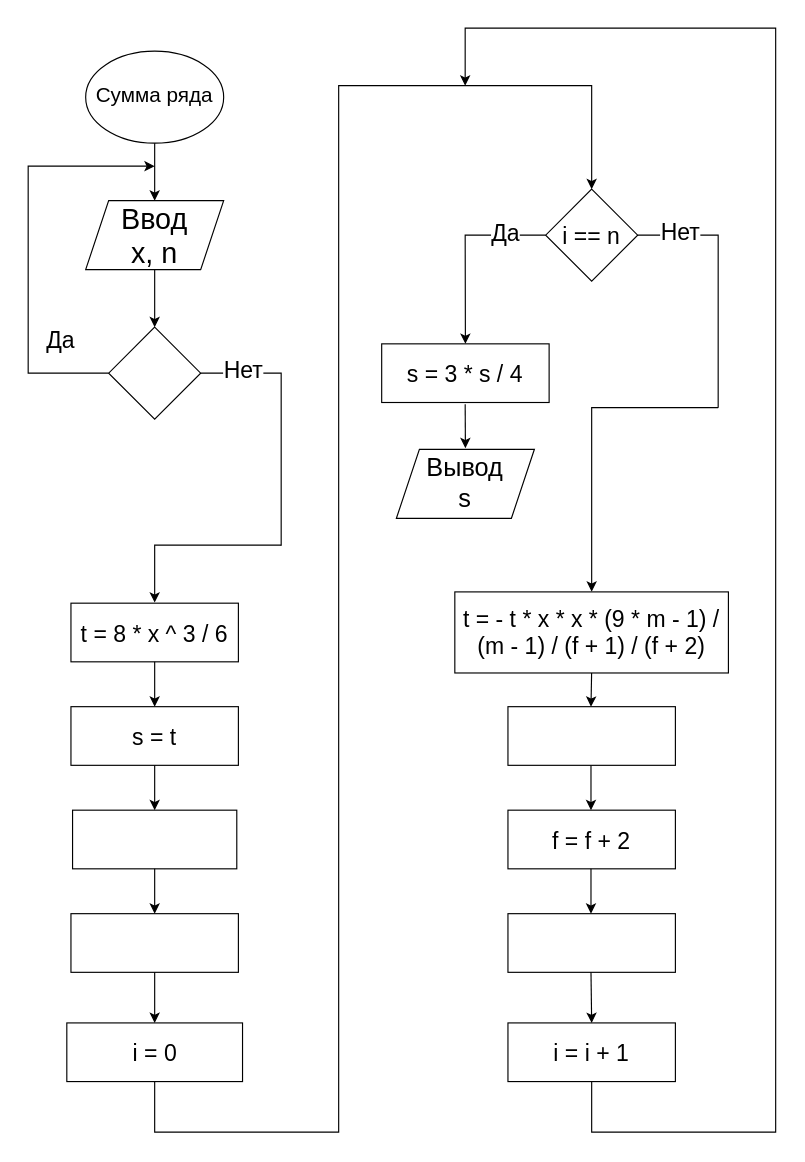
The diagram is 805 pixels wide and 1162 high, and some of its shapes have lost their labels. Here are the shapes that lost their labels. From the top down, the box of each, then its label:
(108, 326, 201, 419): n <= 1
(507, 706, 675, 765): s = s + t
(71, 809, 237, 869): f = 3
(70, 913, 238, 972): m = 9
(507, 913, 675, 972): m = 9 * m
